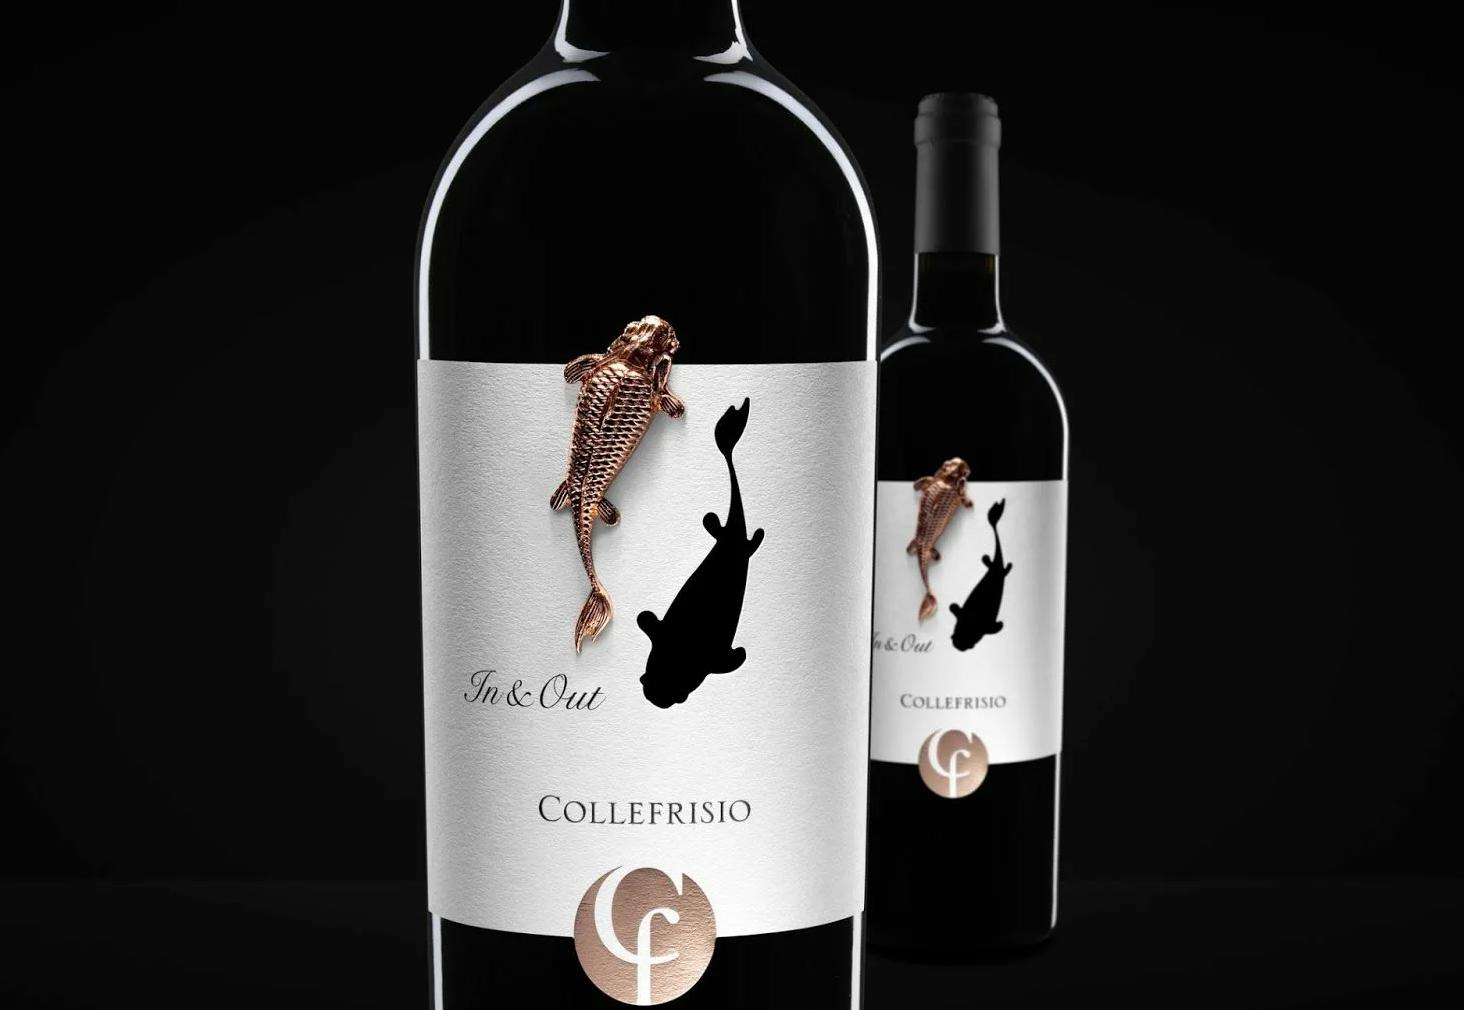wine bottle: (415, 0, 879, 1010), (869, 95, 1071, 967)
wine label: (421, 311, 872, 1007), (871, 455, 1067, 799)
